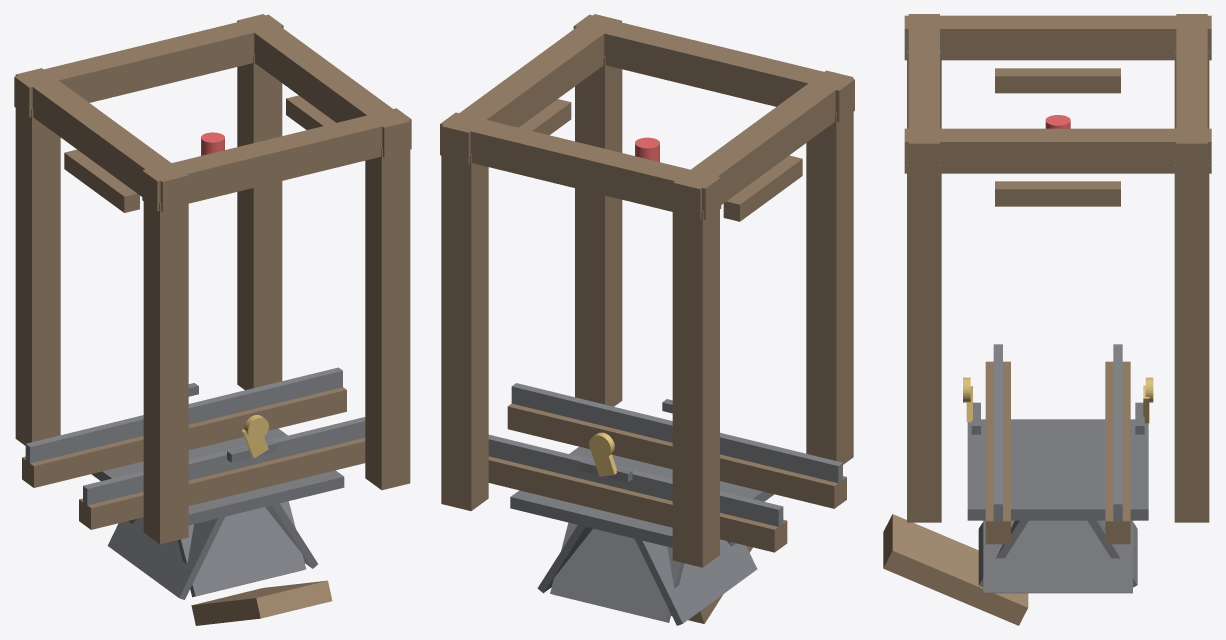
Rendered from hopper_unloader.glb.
The picture shows the model from 3 angles, left to right: view 1: azimuth 30°, elevation 25°; view 2: azimuth 150°, elevation 25°; view 3: azimuth 270°, elevation 25°; orthographic projection. The views are drawn at different scales.
Visible parts, largest first — view 1: Cube, Cube.001, Cube.002, Cube.003, Cube.004, Cube.005, Cube.006, Cube.007, Cube.013, Cube.017, Cube.011, Cube.012 (+7 smaller); view 2: Cube.002, Cube.003, Cube, Cube.001, Cube.005, Cube.004, Cube.006, Cube.007, Cube.011, Cube.018, Cube.013, Cube.010 (+6 smaller); view 3: Cube.014, Cube.003, Cube.001, Cube.007, Cube.006, Cube.016, Cube.019, Cube.005, Cube.004, Cube.013, Cube.011, Cube.008 (+6 smaller).
Part boxes in pixels (x1,y1,x2,y2): Cube: (143,201,188,544); Cube.001: (365,148,410,490); Cube.002: (15,108,60,445); Cube.003: (237,54,282,390); Cube.004: (142,108,411,211); Cube.005: (14,14,283,117); Cube.006: (15,68,188,211); Cube.007: (237,14,410,157); Cube.013: (22,387,346,487); Cube.017: (177,501,306,597); Cube.011: (79,437,365,529); Cube.012: (25,367,342,463); Cube.002: (672,204,719,567); Cube.003: (441,148,488,510); Cube: (806,112,853,464); Cube.001: (575,56,622,406); Cube.005: (440,112,721,219); Cube.004: (573,14,854,121); Cube.006: (673,70,853,220); Cube.007: (441,14,621,163); Cube.011: (507,403,846,508); Cube.018: (550,522,684,622); Cube.013: (488,456,787,552); Cube.010: (511,383,842,483); Cube.014: (967,419,1148,520); Cube.003: (1174,165,1209,522); Cube.001: (907,165,941,522); Cube.007: (904,128,1211,173); Cube.006: (904,15,1211,60); Cube.016: (983,520,1132,593); Cube.019: (883,514,1028,625); Cube.005: (1176,14,1207,175); Cube.004: (908,14,939,175); Cube.013: (1105,361,1130,544); Cube.011: (985,361,1010,544); Cube.008: (995,68,1120,93).
Size of the model in its own units: 2.4 by 3.7 by 2.09.
